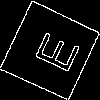E: (25, 25, 81, 75)
